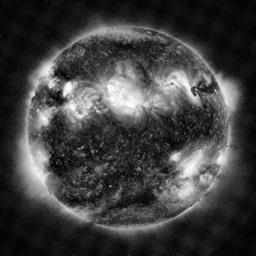solar flares: (106, 79, 145, 113), (173, 178, 198, 204), (67, 99, 94, 123), (181, 154, 205, 178), (159, 75, 179, 97), (62, 77, 82, 97), (145, 97, 162, 114), (186, 86, 200, 104), (38, 110, 52, 128), (46, 76, 60, 91), (38, 149, 51, 165), (170, 149, 181, 165)
sunspots: (184, 107, 210, 135), (85, 129, 104, 163), (123, 129, 152, 149), (51, 157, 77, 176), (120, 193, 154, 207), (194, 79, 215, 98), (108, 39, 136, 53), (66, 192, 105, 202), (147, 44, 167, 58), (56, 69, 75, 82), (169, 135, 182, 149), (104, 175, 125, 183), (163, 119, 175, 130)
